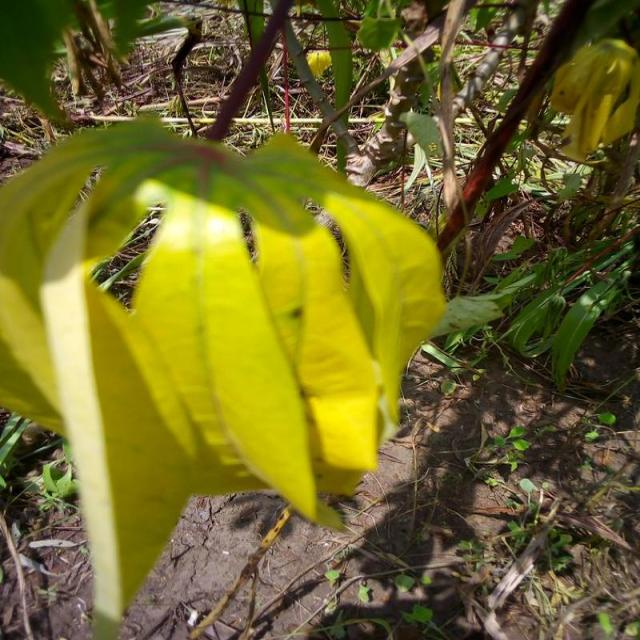cassava leaf: (1, 119, 447, 634)
